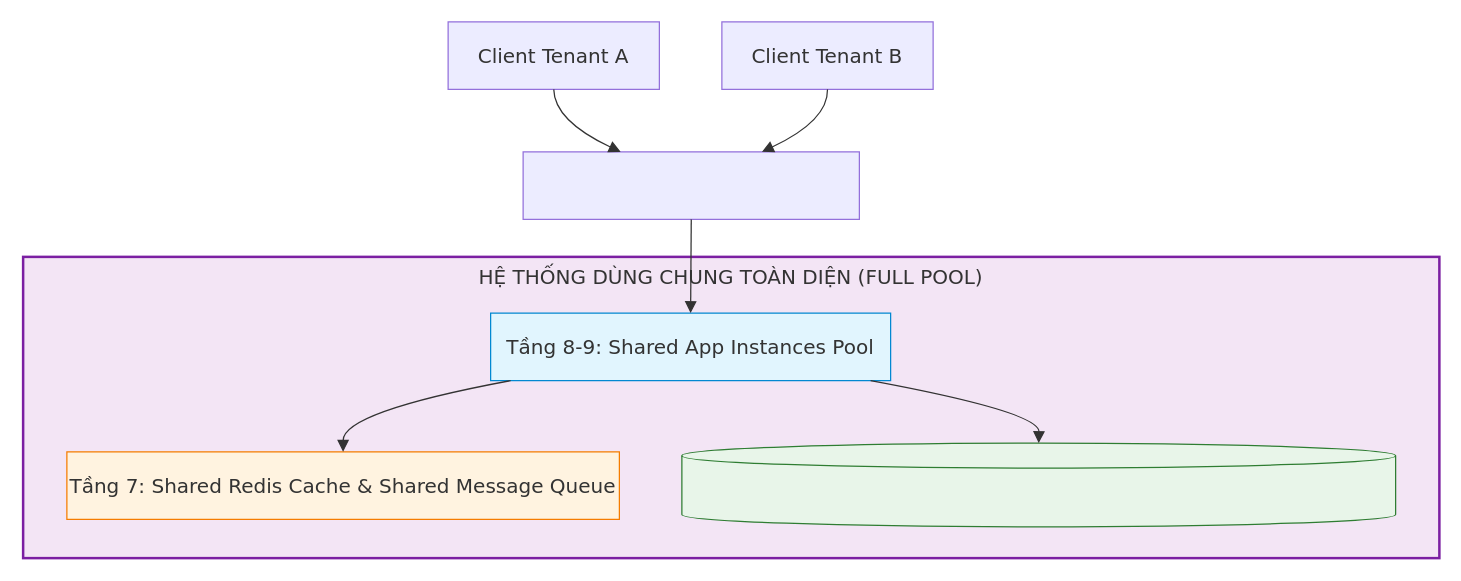
This 1461x581 diagram has some shape labels left out. The shapes that lost their labels are listed below. From the top down, each one's centre as x and y in pixels, then its label:
the point at 690,185: API Gateway / Ingress Router
the point at 1038,484: Tầng 4-6: Shared Database Engine & Shared Tables (Discriminator: tenant_id)
